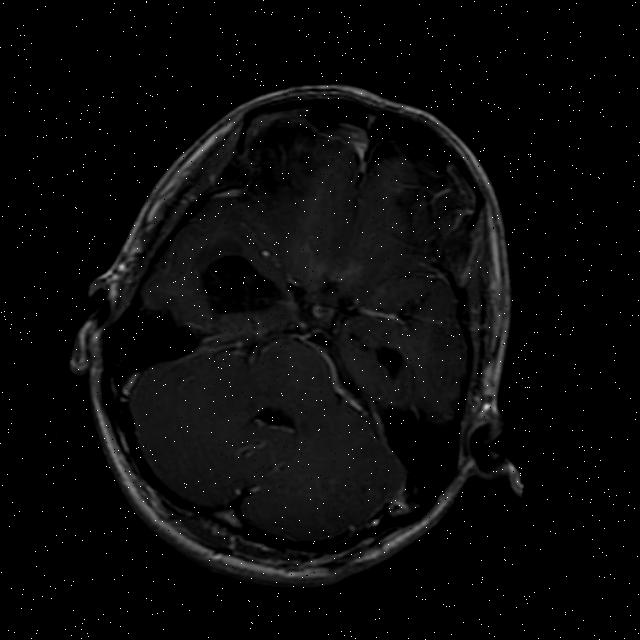Glioma: (196, 251, 286, 320)
